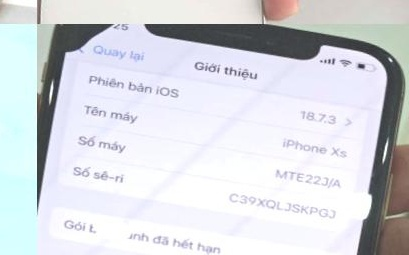scratch: (0, 24, 37, 255)
screen_defect: (37, 24, 146, 76)
